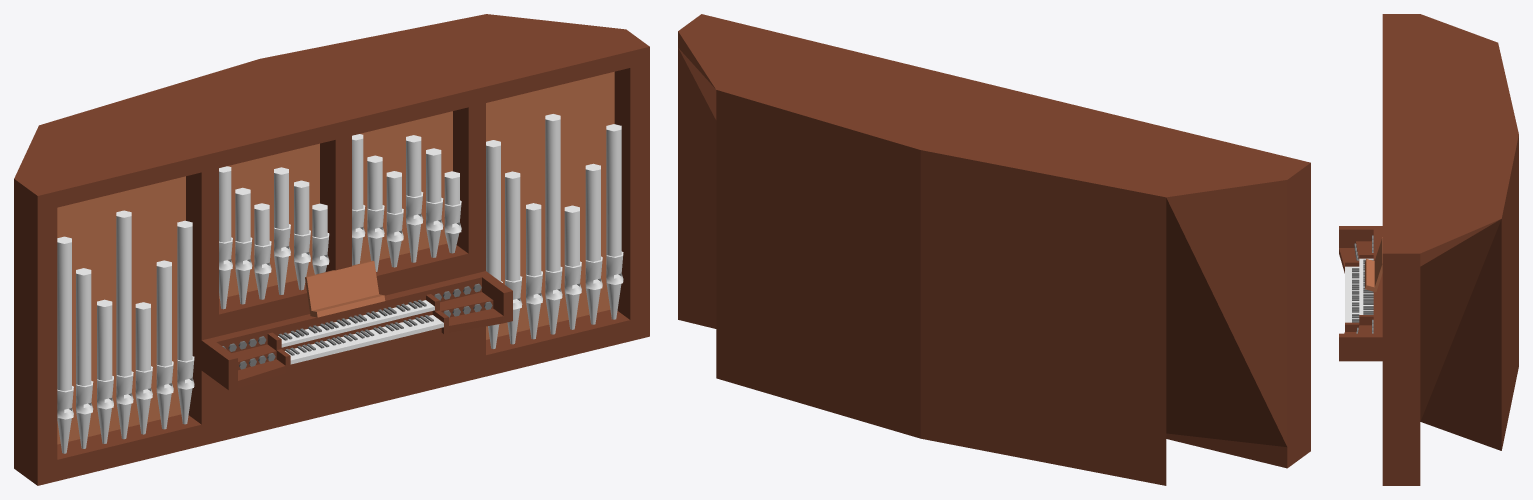
Rendered from Dest_Hall_Organ.FBX.
The picture shows the model from 3 angles, left to right: view 1: azimuth 30°, elevation 25°; view 2: azimuth 150°, elevation 25°; view 3: azimuth 270°, elevation 25°; orthographic projection. The views are drawn at different scales.
Visible parts, largest first — view 1: Object004; view 2: Object004; view 3: Object004.
Boxes of the visible parts, box(x1,y1,x2,y2) form: Object004: box(14, 14, 649, 485); Object004: box(678, 14, 1310, 485); Object004: box(1339, 14, 1518, 485).
Size of the model in its own units: 102 by 46.14 by 32.36.
